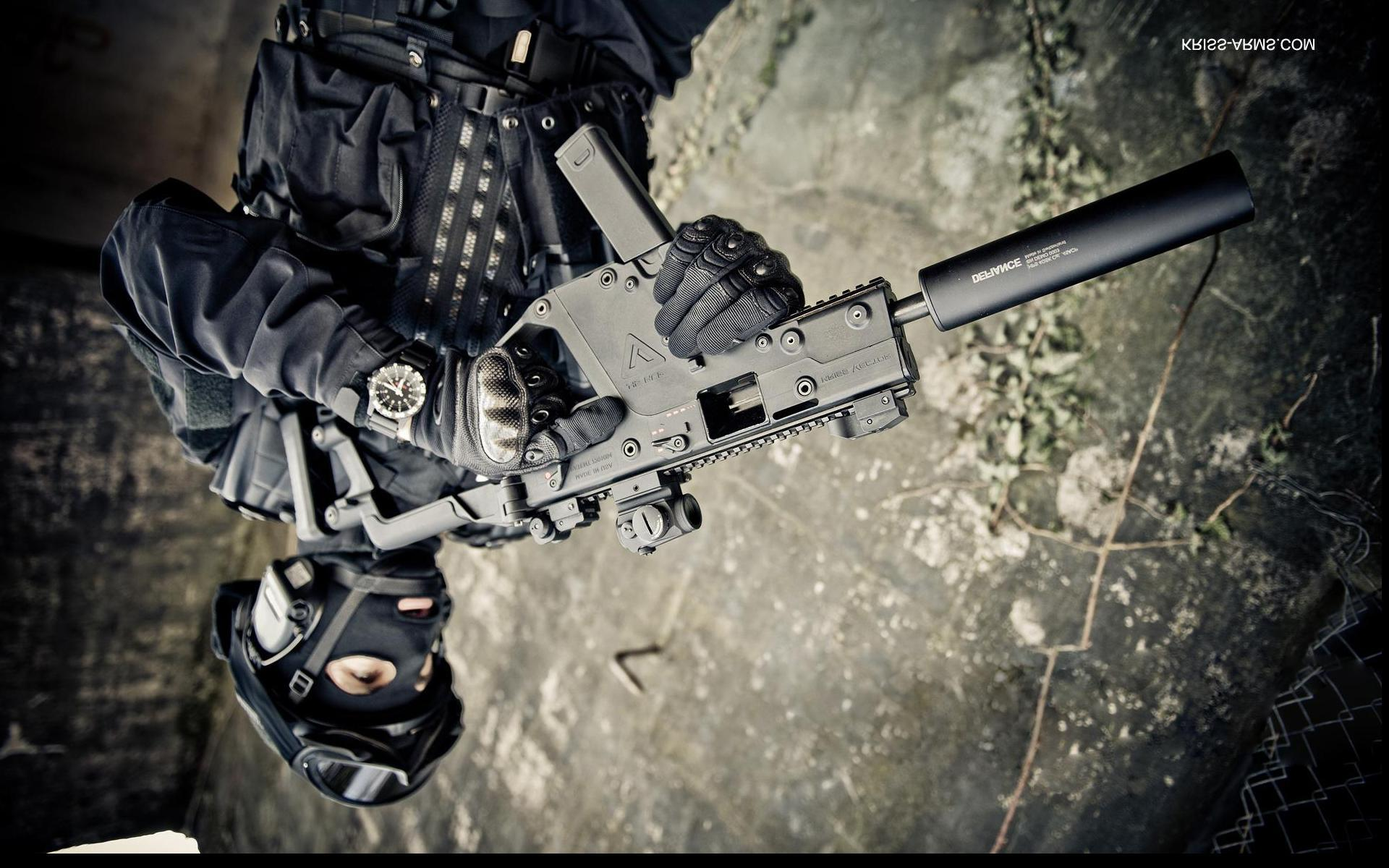larga: (277, 114, 1266, 552)
